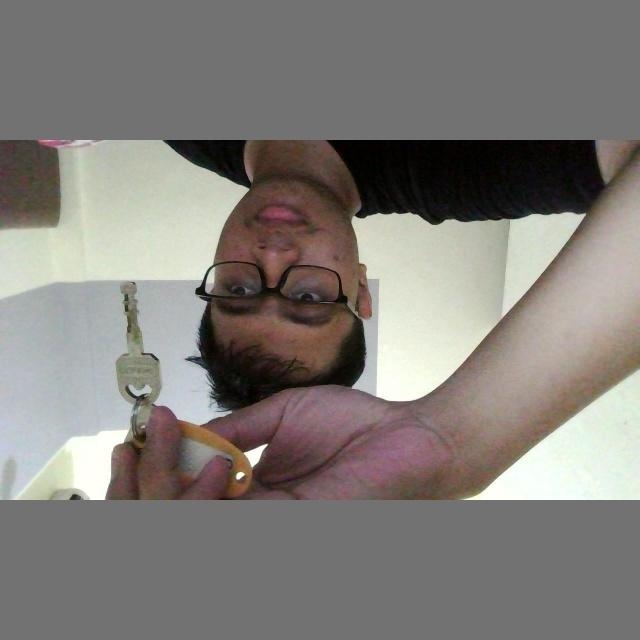Keys: (103, 276, 169, 408)
